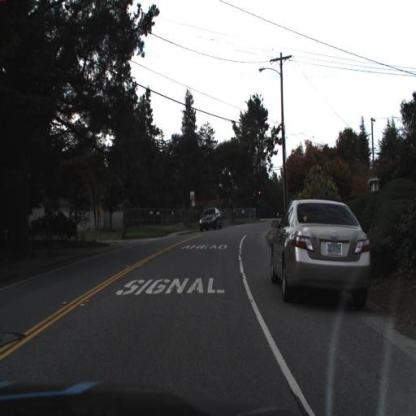car: (265, 197, 373, 305), (199, 207, 224, 230)
